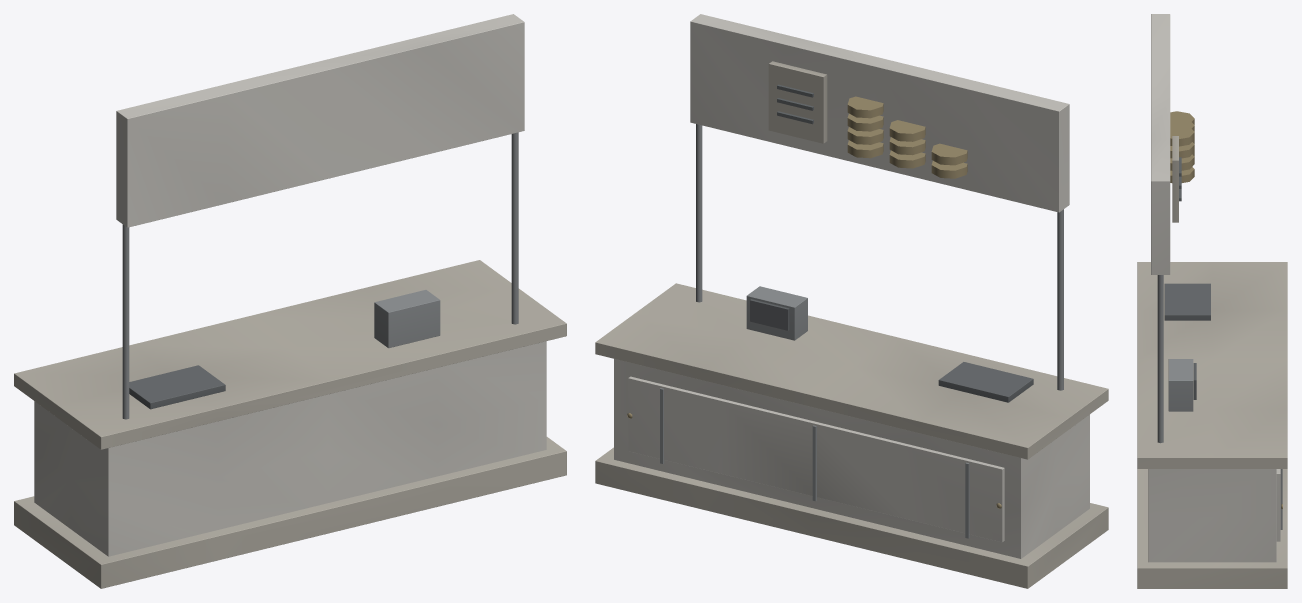
File: desk_tax_low.glb
The picture shows the model from 3 angles, left to right: view 1: azimuth 30°, elevation 25°; view 2: azimuth 150°, elevation 25°; view 3: azimuth 270°, elevation 25°; orthographic projection. The views are drawn at different scales.
Size of the model in its own units: 3.4 by 3.18 by 1.1.
